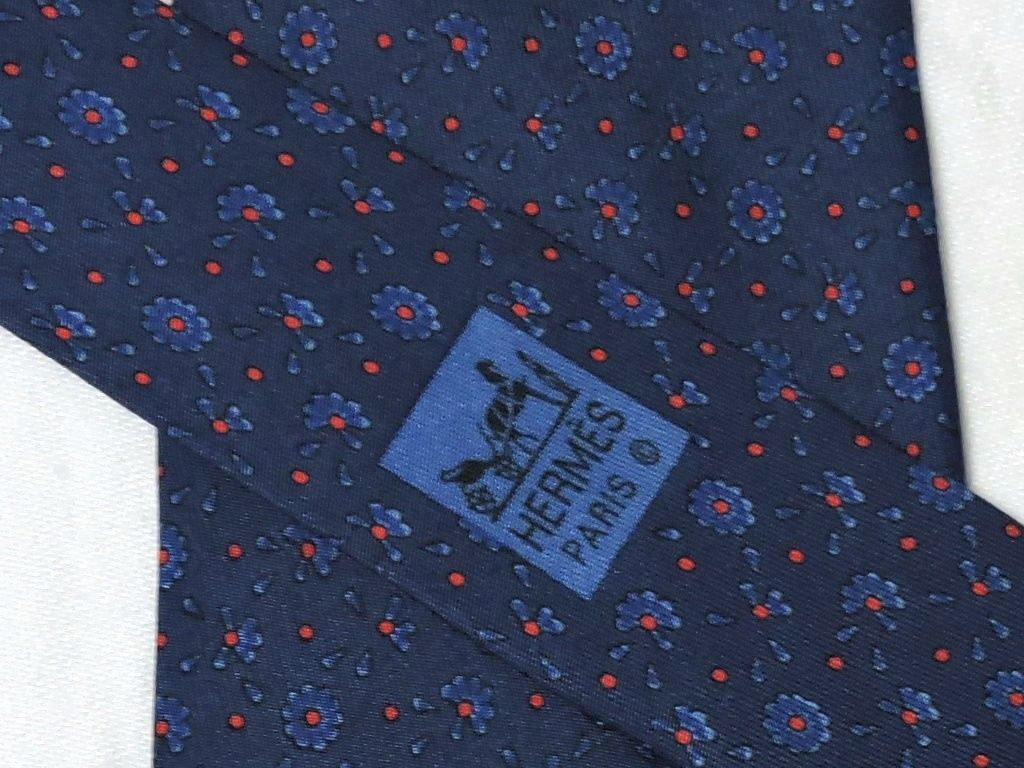HERMES: (430, 331, 673, 576)
